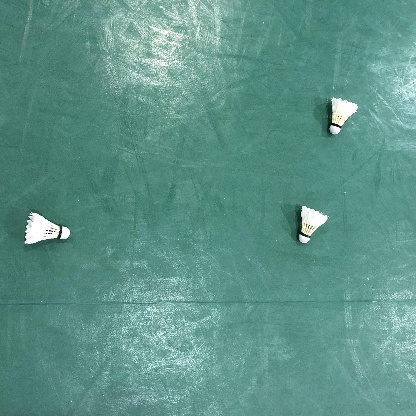ball_single: (25, 212, 70, 244), (299, 206, 329, 243), (329, 97, 358, 135)
